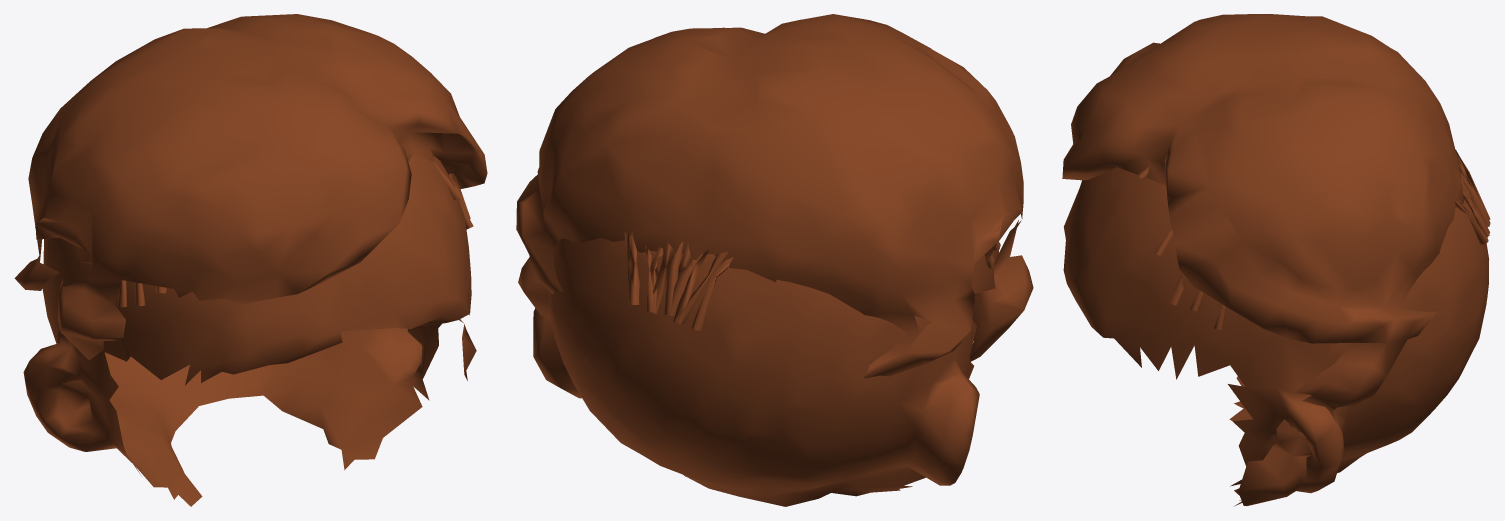
The model's file is braid.glb.
3 renders of one model, left to right at view 1: azimuth 30°, elevation 25°; view 2: azimuth 150°, elevation 25°; view 3: azimuth 270°, elevation 25°, orthographic. The views are drawn at different scales.
Parts seen in each view (by area): view 1: Hair, HairScalp, HairPulledRootStrands; view 2: Hair, HairScalp, HairPulledRootStrands; view 3: Hair, HairScalp, HairPulledRootStrands.
Part boxes in pixels (bbox=[...]): Hair: bbox=[14, 14, 487, 380]; HairScalp: bbox=[23, 152, 471, 506]; HairPulledRootStrands: bbox=[117, 159, 473, 307]; Hair: bbox=[516, 14, 1033, 378]; HairScalp: bbox=[533, 238, 998, 506]; HairPulledRootStrands: bbox=[624, 232, 1000, 330]; Hair: bbox=[1062, 14, 1463, 505]; HairScalp: bbox=[1063, 167, 1489, 506]; HairPulledRootStrands: bbox=[1138, 149, 1490, 330].
Bounding box in the file's own units: 0.4803 × 0.452 × 0.4207.
